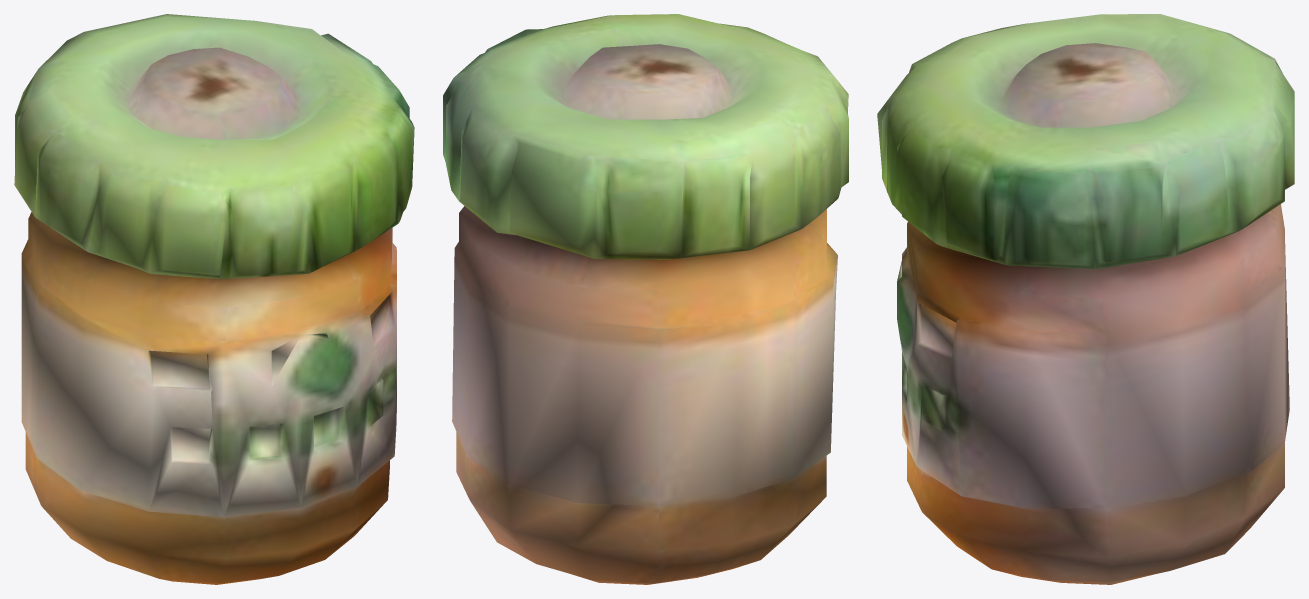
File: peanut-butter.glb
The picture shows the model from 3 angles, left to right: view 1: azimuth 30°, elevation 25°; view 2: azimuth 150°, elevation 25°; view 3: azimuth 270°, elevation 25°; orthographic projection.
Parts seen in each view (by area): view 1: Peanut Butter; view 2: Peanut Butter; view 3: Peanut Butter.
Part boxes in pixels (x1,y1,x2,y2): Peanut Butter: [14, 14, 414, 584]; Peanut Butter: [443, 14, 848, 584]; Peanut Butter: [877, 14, 1294, 584].
Bounding box in the file's own units: 1.33 × 1.72 × 1.37.
Materials: 1 (1 with a texture image).
